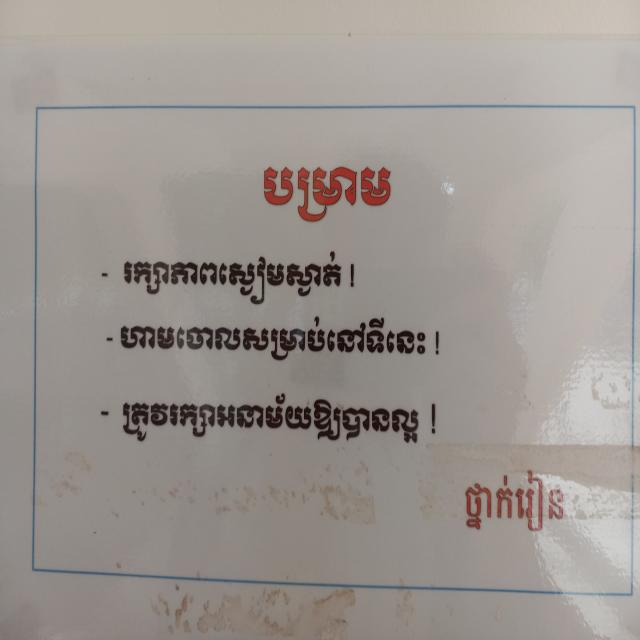Yolov11_80vkh: (119, 385, 423, 450), (118, 310, 428, 370), (120, 248, 346, 310), (256, 158, 399, 229), (459, 463, 572, 543)
